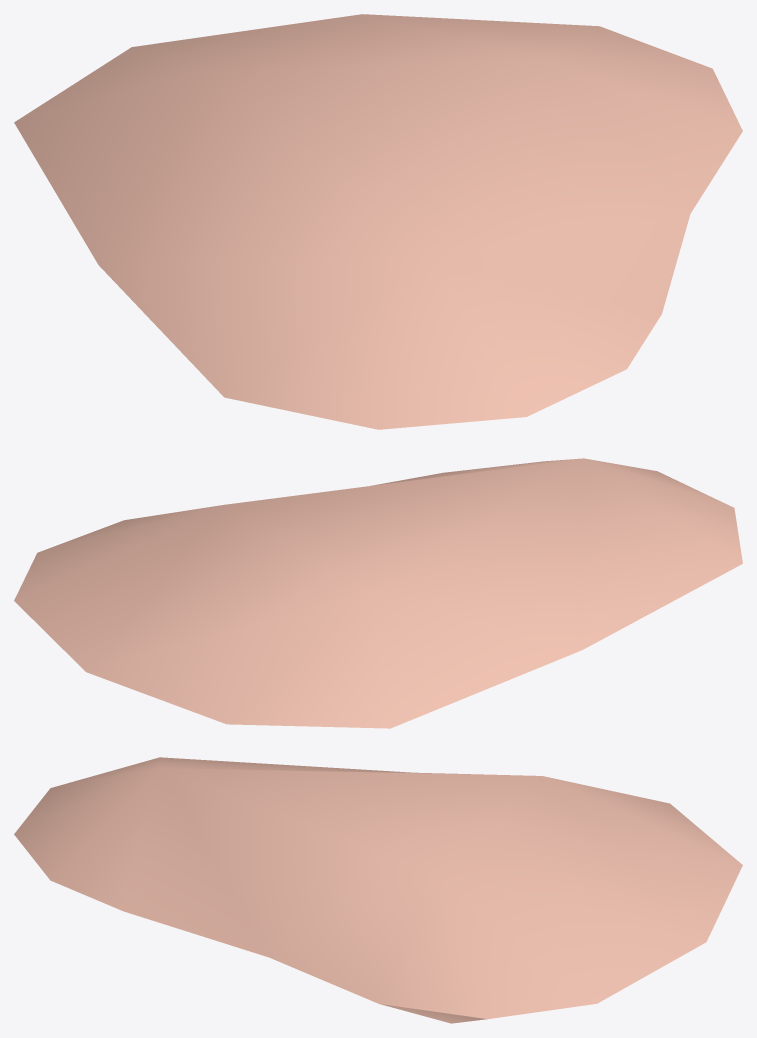
File: opal.gltf
3 views of the same model, one above another, from view 1: azimuth 30°, elevation 25°; view 2: azimuth 150°, elevation 25°; view 3: azimuth 270°, elevation 25° (orthographic). The views are drawn at different scales.
Parts seen in each view (by area): view 1: opal; view 2: opal; view 3: opal.
Part boxes in pixels (box(x1,y1,x2,y2)): opal: box(14, 14, 742, 429); opal: box(14, 458, 742, 728); opal: box(14, 757, 742, 1023).
Bounding box in the file's own units: 0.204 × 0.048 × 0.24.
